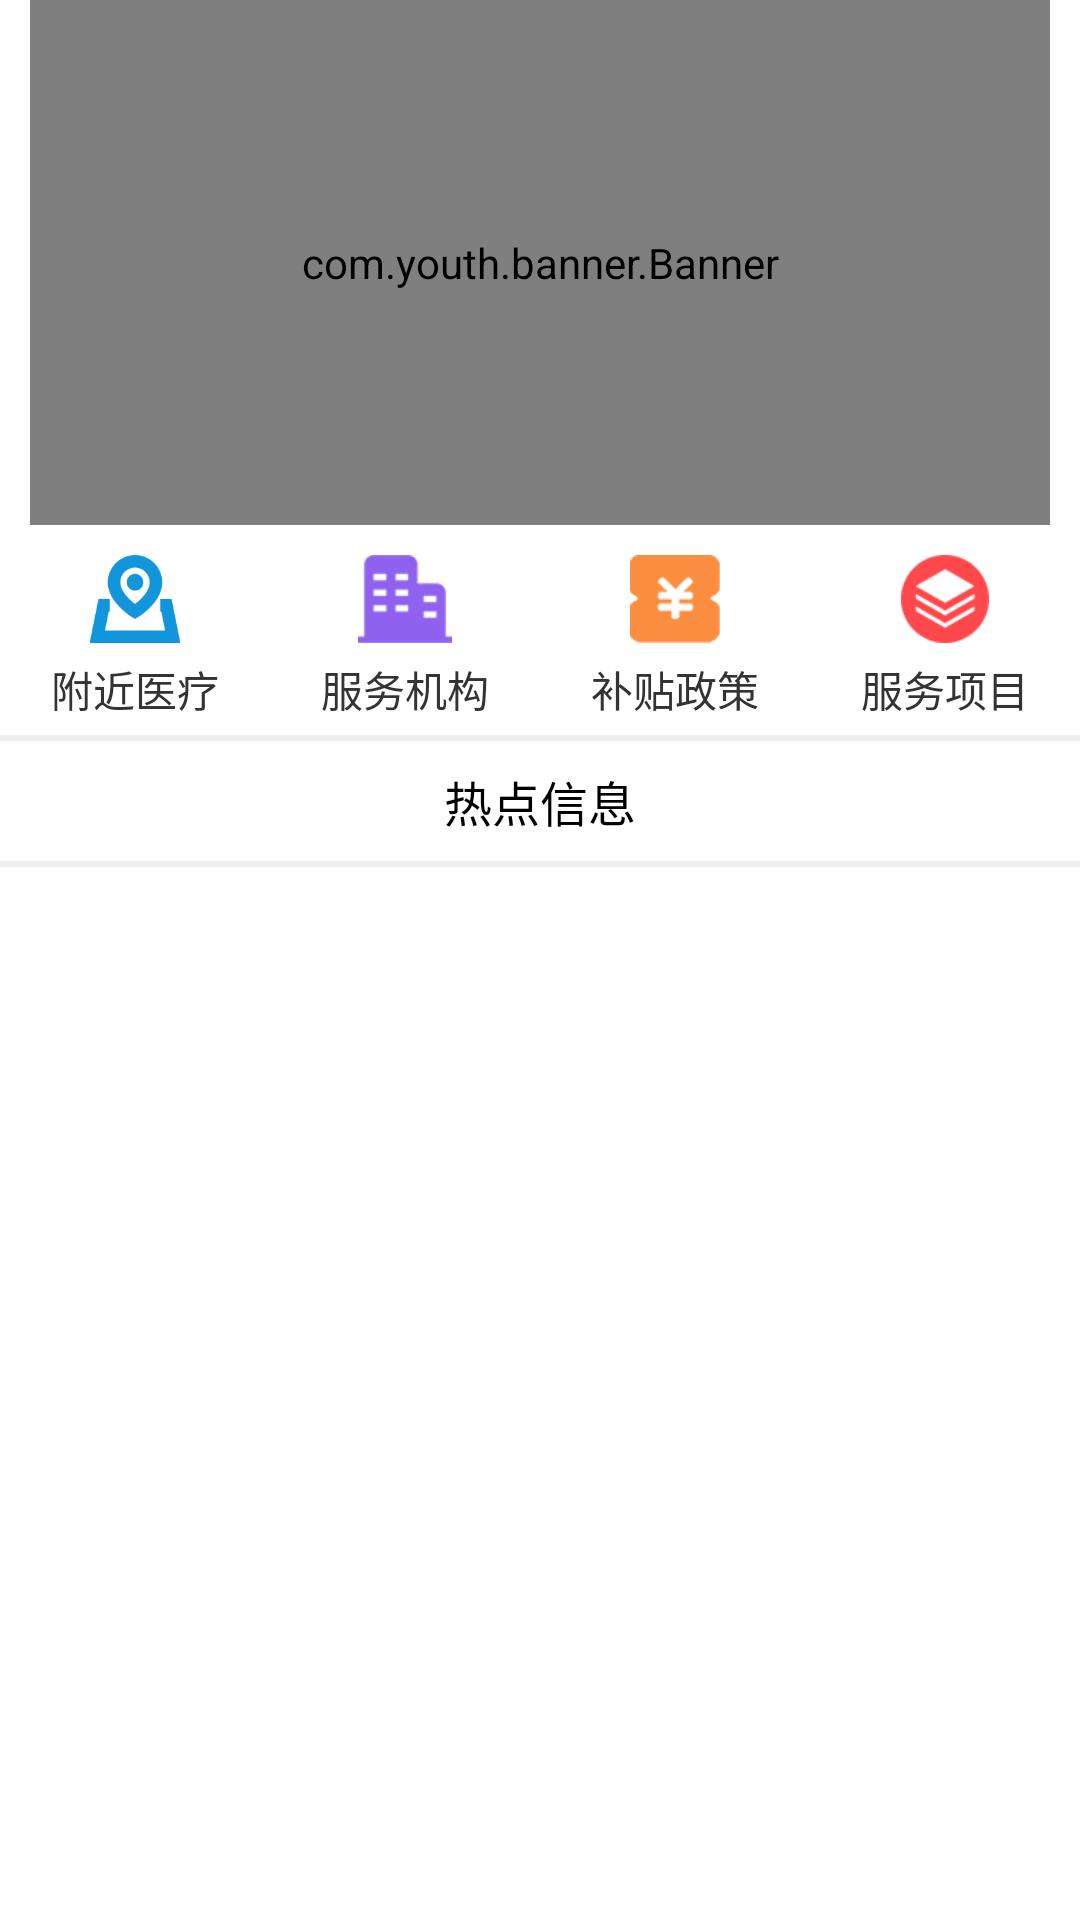

Named icons in this screenshot (1080px x 1920px) and their bounding boxes, Rect(x1, y1, x2, y2):
location: Rect(90, 555, 180, 643)
